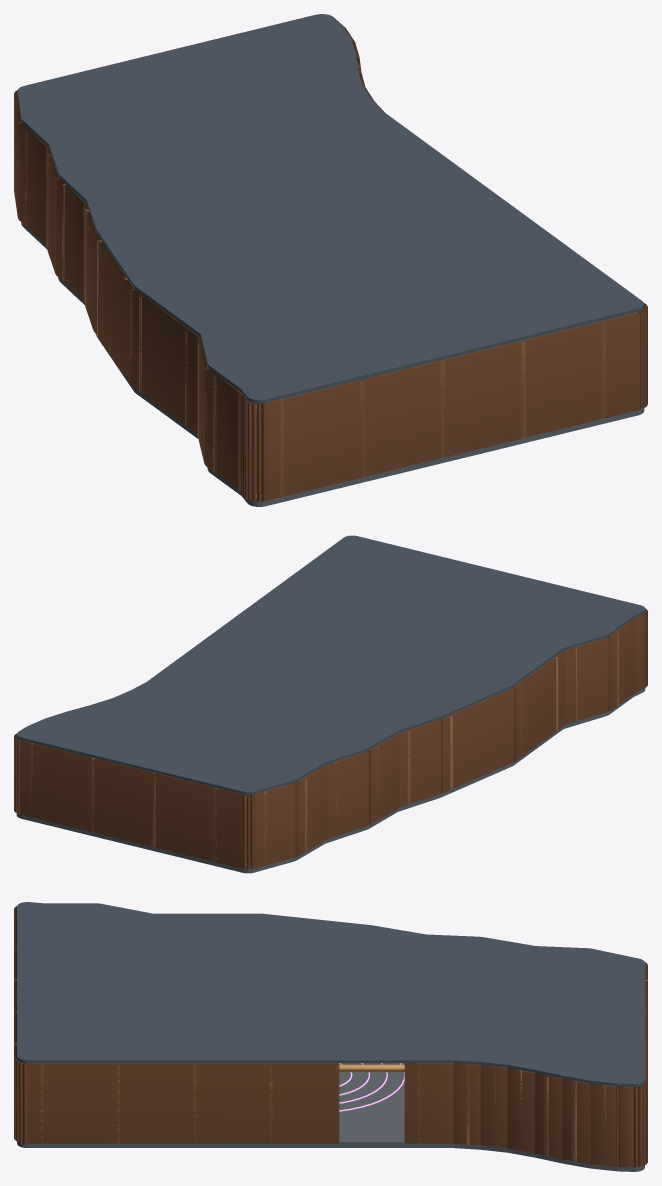
Rendered from Holodeck.glb.
The picture shows the model from 3 angles, top to bottom: view 1: azimuth 30°, elevation 25°; view 2: azimuth 150°, elevation 25°; view 3: azimuth 270°, elevation 25°; orthographic projection. The views are drawn at different scales.
Visible parts, largest first — view 1: Ceiling_panel, Wall (×10), Holodeck_floor; view 2: Ceiling_panel, Wall (×11), Holodeck_floor; view 3: Ceiling_panel, Wall (×14), Holodeck_floor, Door_header.
Boxes of the visible parts, <box> form: Ceiling_panel: <box>17,14,644,403</box>; Wall (×10): <box>19,123,639,500</box>; Holodeck_floor: <box>21,222,644,506</box>; Ceiling_panel: <box>16,535,645,794</box>; Wall (×11): <box>20,614,644,868</box>; Holodeck_floor: <box>16,688,645,873</box>; Ceiling_panel: <box>17,902,644,1086</box>; Wall (×14): <box>14,909,643,1167</box>; Holodeck_floor: <box>17,1063,644,1171</box>; Door_header: <box>339,1064,404,1072</box>.
Bounding box in the file's own units: 16 × 3.55 × 23.22.
